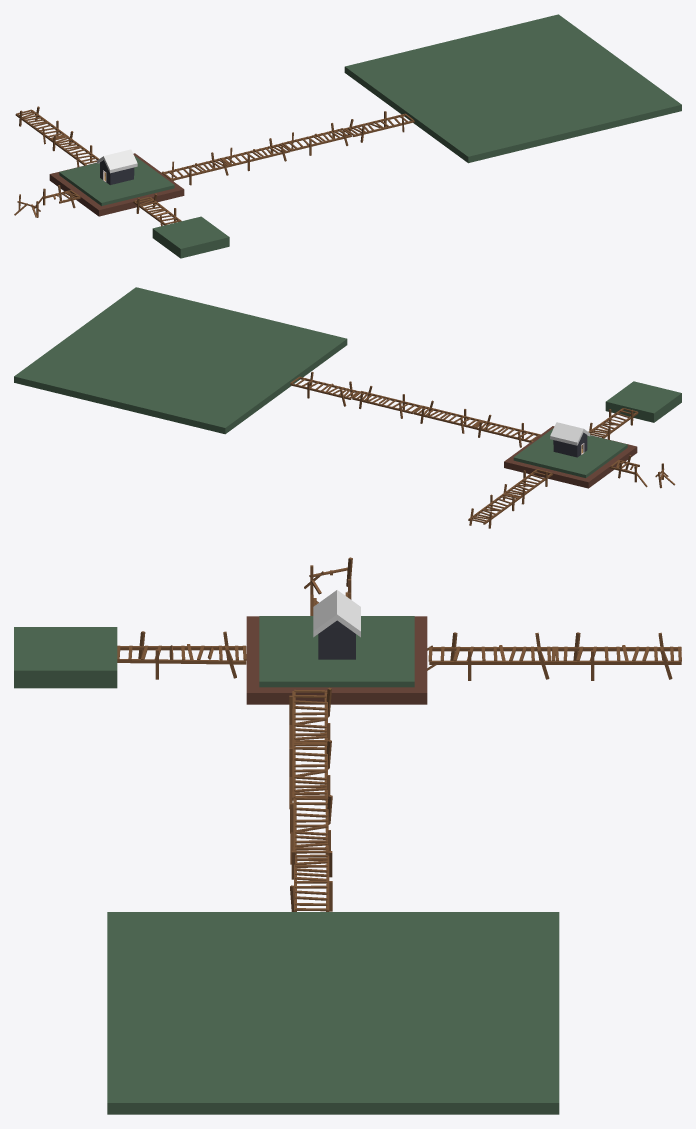
The model's file is Map3.fbx.
The picture shows the model from 3 angles, top to bottom: view 1: azimuth 30°, elevation 25°; view 2: azimuth 150°, elevation 25°; view 3: azimuth 270°, elevation 25°; orthographic projection. The views are drawn at different scales.
Parts seen in each view (by area): view 1: Cube.009, MainLand, Mainland2, DirtMainLand, BiggerBridge.001, BiggerBridge, LittleBridge.001, LittleBridge, Bridge, Roof, BrokenBridge, Base; view 2: Cube.009, MainLand, Mainland2, DirtMainLand, BiggerBridge.001, BiggerBridge, LittleBridge.001, LittleBridge, Bridge, Roof, BrokenBridge, Base; view 3: Cube.009, MainLand, Mainland2, DirtMainLand, BiggerBridge, BiggerBridge.001, Bridge, LittleBridge, LittleBridge.001, Roof, Base.
Part boxes in pixels (x1,y1,x2,y2): Cube.009: (344, 14, 681, 163); MainLand: (59, 155, 174, 205); Mainland2: (152, 216, 229, 258); DirtMainLand: (49, 153, 184, 216); BiggerBridge.001: (160, 138, 290, 185); BiggerBridge: (15, 106, 98, 167); LittleBridge.001: (344, 111, 414, 142); LittleBridge: (281, 123, 351, 155); Bridge: (133, 193, 181, 226); Roof: (97, 149, 137, 173); BrokenBridge: (14, 185, 80, 217); Base: (100, 160, 134, 184); Cube.009: (14, 287, 347, 434); MainLand: (513, 428, 627, 477); Mainland2: (605, 381, 681, 422); DirtMainLand: (504, 426, 637, 488); BiggerBridge.001: (413, 400, 540, 447); BiggerBridge: (468, 469, 552, 528); LittleBridge.001: (290, 372, 359, 406); LittleBridge: (352, 386, 421, 418); Bridge: (588, 408, 638, 439); Roof: (550, 422, 590, 445); BrokenBridge: (609, 455, 675, 488); Base: (553, 432, 587, 457); Cube.009: (107, 912, 559, 1114); MainLand: (259, 616, 414, 687); Mainland2: (14, 627, 117, 688); DirtMainLand: (246, 616, 427, 704); BiggerBridge: (427, 632, 681, 680); BiggerBridge.001: (289, 687, 331, 809); Bridge: (117, 631, 246, 679); LittleBridge: (290, 795, 332, 864); LittleBridge.001: (290, 850, 332, 911); Roof: (313, 590, 360, 637); Base: (318, 620, 355, 659).
Size of what is drawn, in the model's own units: 103 by 199 by 12.6.
